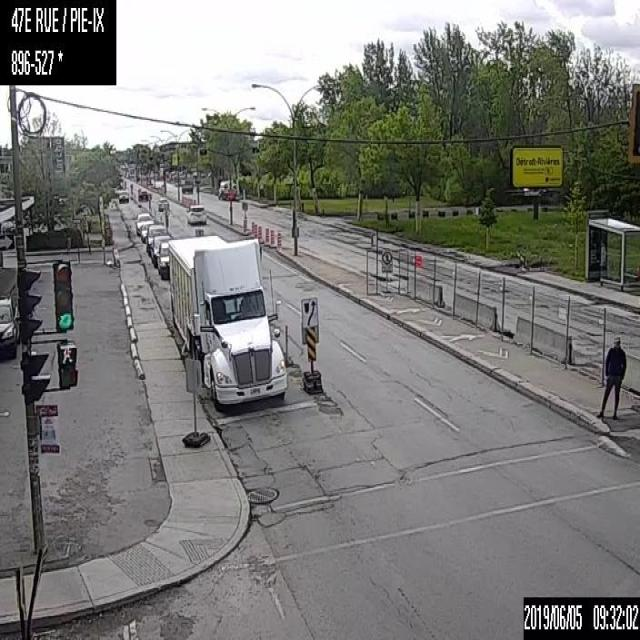construction: (284, 324, 287, 365), (277, 232, 282, 252), (264, 226, 269, 244), (257, 224, 262, 240), (253, 221, 258, 236), (270, 228, 274, 245)
pedestrian: (594, 335, 626, 420)
vehicle: (167, 234, 288, 407), (0, 293, 19, 356), (146, 222, 166, 254), (152, 233, 169, 266), (184, 200, 206, 225), (134, 212, 154, 235), (158, 239, 169, 278), (217, 180, 236, 200), (156, 195, 169, 212), (116, 188, 129, 203), (136, 187, 148, 201), (140, 223, 146, 241)
